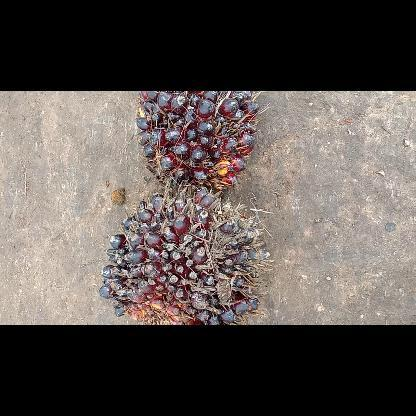TBS mentah: (107, 189, 266, 323), (136, 90, 262, 202)
